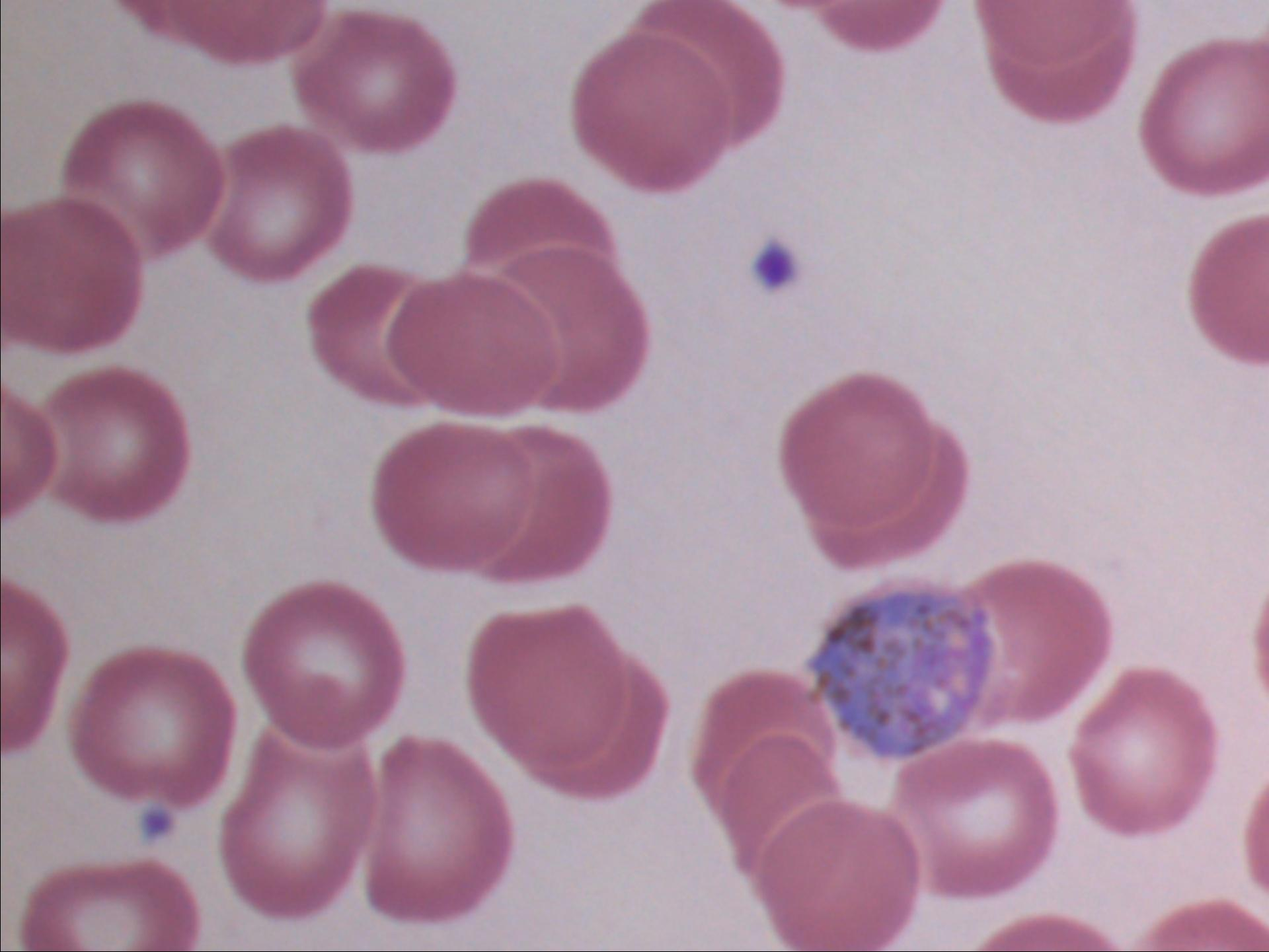Infected: (806, 580, 998, 765)
Uninfected: (223, 729, 390, 920), (68, 643, 242, 806), (242, 582, 403, 750), (368, 742, 519, 920), (886, 740, 1058, 896), (466, 606, 632, 767), (568, 35, 736, 193), (489, 243, 645, 411), (778, 372, 941, 529), (63, 101, 225, 258), (1064, 673, 1215, 838), (373, 423, 538, 571), (388, 276, 562, 415), (760, 800, 917, 952), (41, 370, 198, 521), (978, 560, 1113, 731), (628, 0, 779, 149), (291, 14, 445, 158), (0, 195, 140, 352), (205, 129, 345, 282), (1138, 35, 1269, 195), (476, 425, 607, 583), (304, 263, 445, 409), (689, 669, 835, 800), (21, 861, 194, 952), (717, 735, 830, 863), (1185, 213, 1269, 364), (977, 0, 1124, 72)
